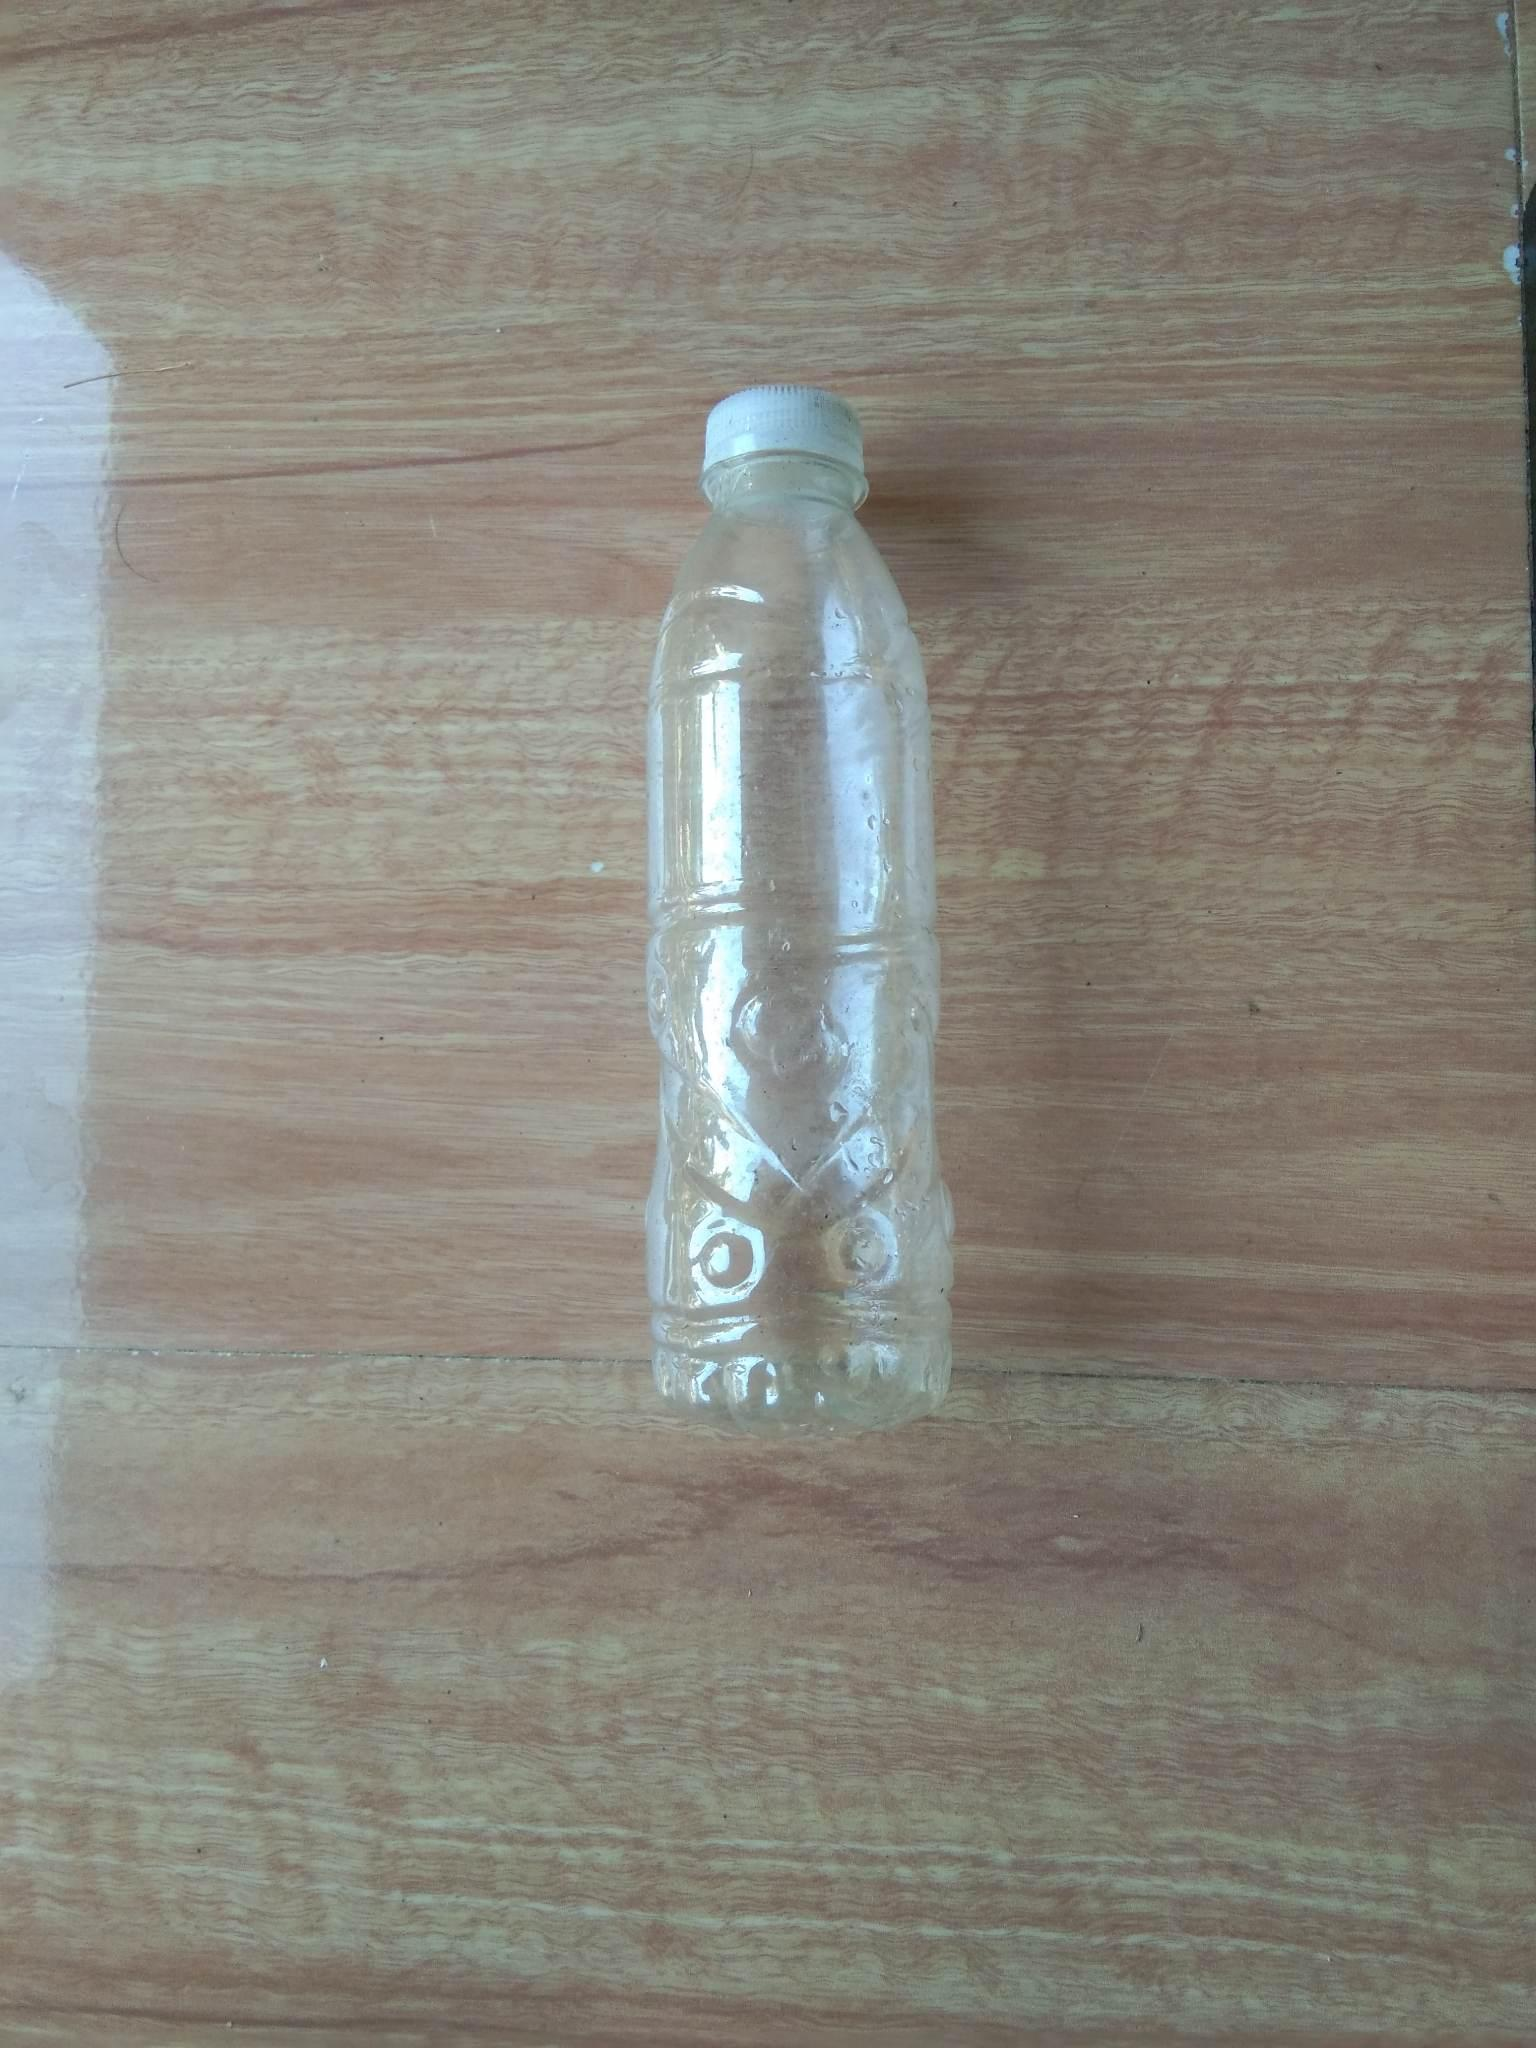plastic: (524, 342, 1005, 1480)
